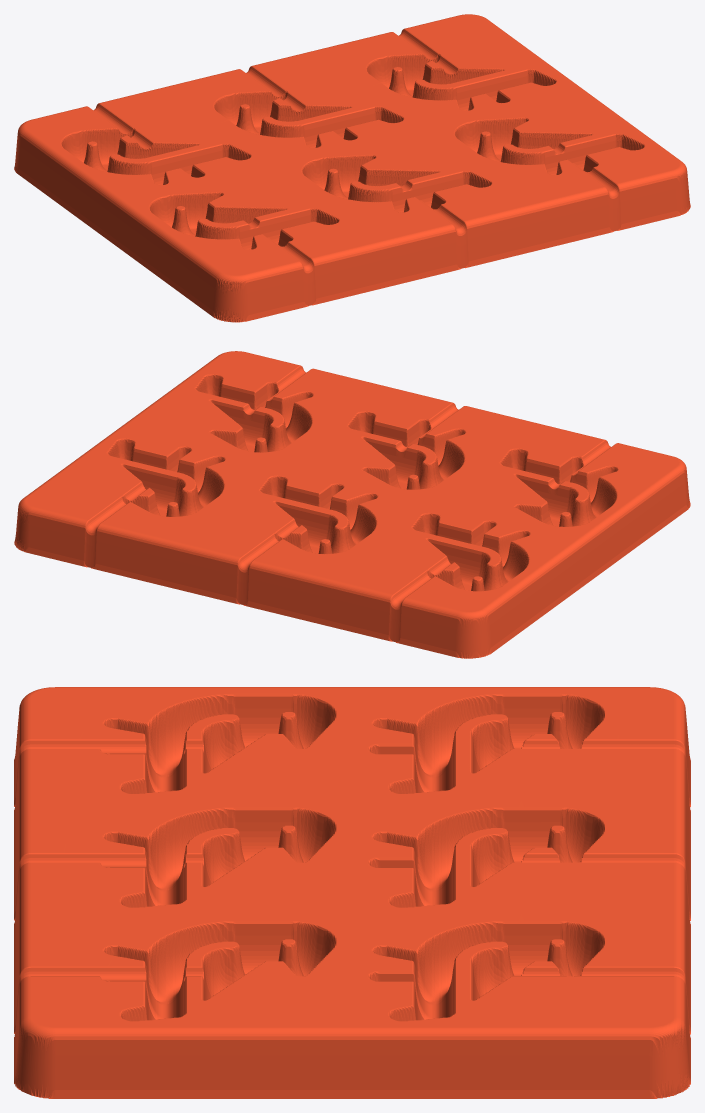
File: mold.glb
3 renders of one model, top to bottom at view 1: azimuth 30°, elevation 25°; view 2: azimuth 150°, elevation 25°; view 3: azimuth 270°, elevation 25°, orthographic. The views are drawn at different scales.
Visible parts, largest first — view 1: geometry_0; view 2: geometry_0; view 3: geometry_0.
Part boxes in pixels (left/top/right/bottom): geometry_0: left=14, top=14, right=690, bottom=322; geometry_0: left=14, top=351, right=690, bottom=658; geometry_0: left=14, top=687, right=690, bottom=1098.
Size of the model in its own units: 0.1824 by 0.0155 by 0.1477.
